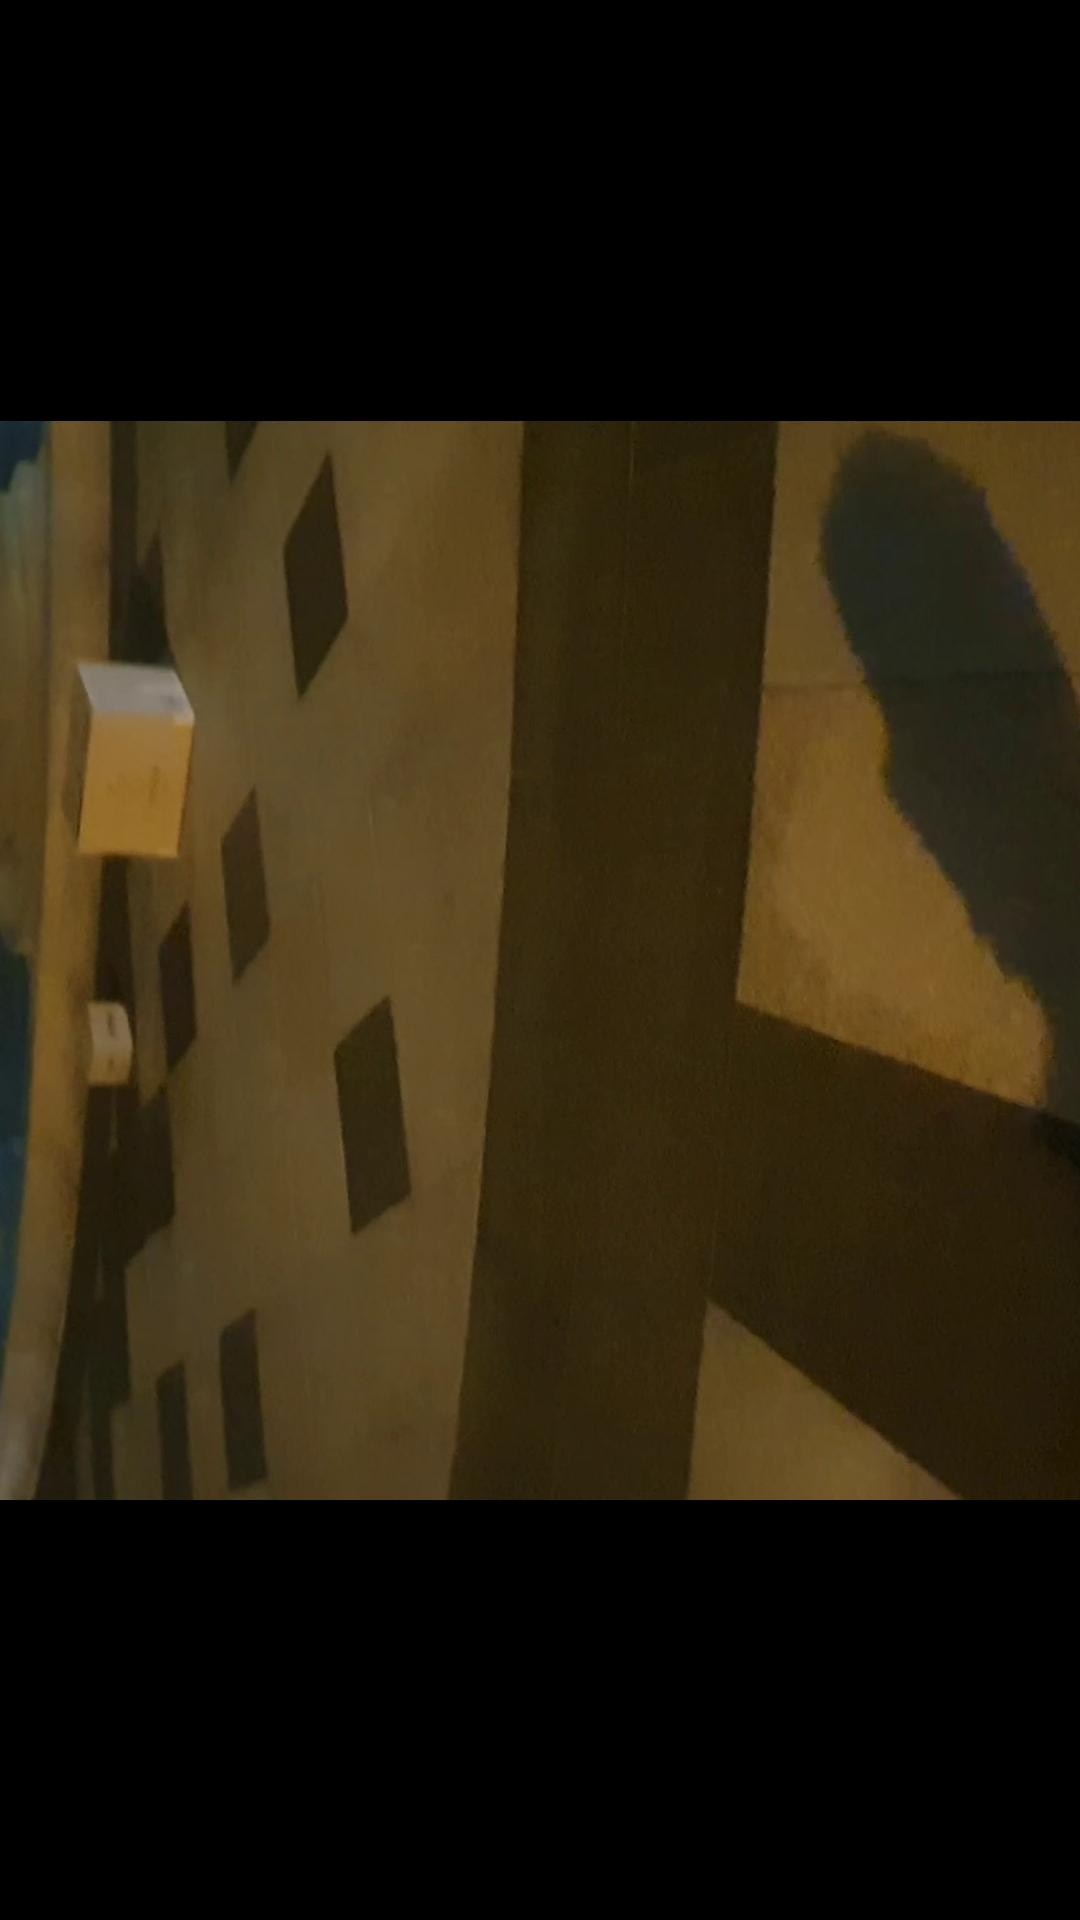Box: (53, 633, 198, 872), (63, 985, 140, 1095)
